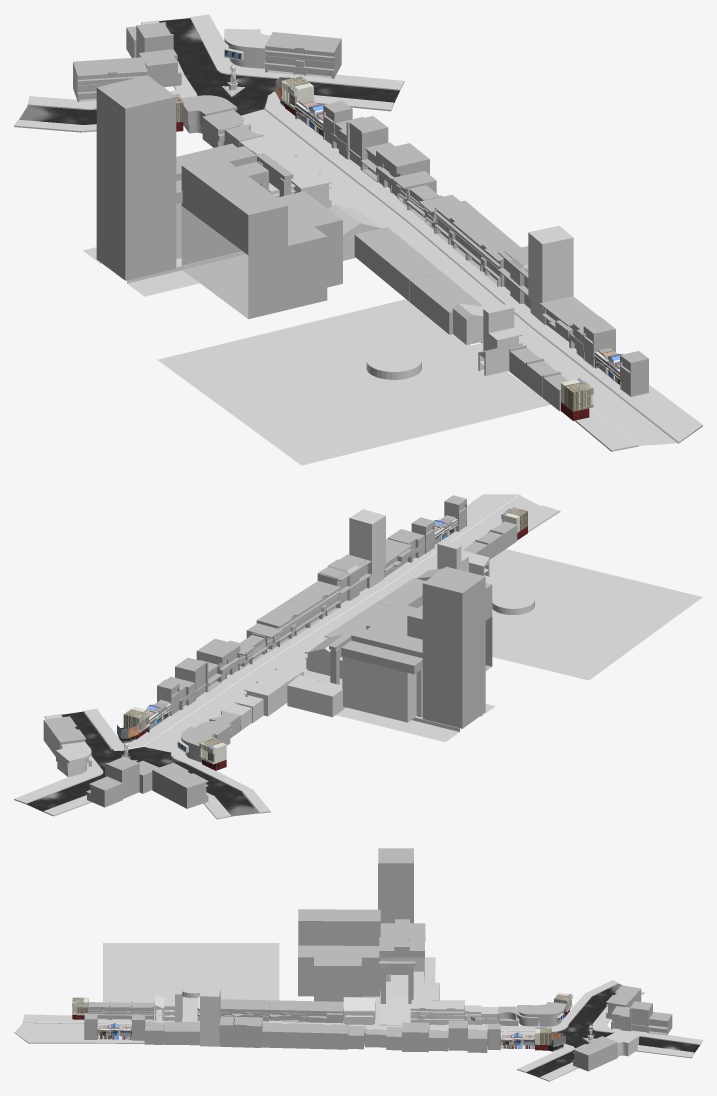
The model's file is BragaU2.fbx.
3 renders of one model, top to bottom at view 1: azimuth 30°, elevation 25°; view 2: azimuth 150°, elevation 25°; view 3: azimuth 270°, elevation 25°, orthographic. The views are drawn at different scales.
Visible parts, largest first — view 1: Plane.048, Plane.018, road, Cube.001, sidewalk, Circle.005, Cube.002, Plane.043, Plane.051, Plane.041, Plane.036, Plane.017 (+27 smaller); view 2: Plane.048, Cube.001, road, sidewalk, Plane.016, Plane.017, Circle.005, Cube.002, Plane.018, Plane.015, Plane.051, Plane.019 (+24 smaller); view 3: Plane.048, Plane.018, sidewalk, road, Cube.001, Plane.015, Plane.017, Plane.044, Cube.002, Circle.005, Plane.043, Plane.041 (+32 smaller).
Boxes of the visible parts, x1=… form: Plane.048: x1=157, y1=299, x2=550, y2=465; Plane.018: x1=181, y1=156, x2=342, y2=319; road: x1=19, y1=18, x2=677, y2=445; Cube.001: x1=96, y1=75, x2=176, y2=280; sidewalk: x1=14, y1=14, x2=702, y2=451; Circle.005: x1=336, y1=344, x2=451, y2=392; Cube.002: x1=528, y1=225, x2=573, y2=324; Plane.043: x1=265, y1=32, x2=341, y2=78; Plane.051: x1=73, y1=57, x2=147, y2=102; Plane.041: x1=434, y1=200, x2=496, y2=259; Plane.036: x1=466, y1=227, x2=520, y2=286; Plane.017: x1=176, y1=143, x2=268, y2=203; Plane.048: x1=485, y1=549, x2=702, y2=680; Cube.001: x1=422, y1=566, x2=485, y2=728; road: x1=26, y1=496, x2=539, y2=816; sidewalk: x1=14, y1=494, x2=560, y2=819; Plane.016: x1=342, y1=656, x2=422, y2=722; Plane.017: x1=341, y1=626, x2=422, y2=674; Circle.005: x1=492, y1=586, x2=558, y2=624; Cube.002: x1=349, y1=509, x2=385, y2=587; Plane.018: x1=366, y1=583, x2=492, y2=670; Plane.015: x1=304, y1=671, x2=495, y2=742; Plane.051: x1=152, y1=762, x2=208, y2=808; Plane.019: x1=287, y1=675, x2=345, y2=717; Plane.048: x1=103, y1=943, x2=279, y2=1011; Plane.018: x1=298, y1=909, x2=380, y2=1001; sidewalk: x1=14, y1=980, x2=702, y2=1081; road: x1=15, y1=983, x2=699, y2=1077; Cube.001: x1=378, y1=848, x2=413, y2=923; Plane.015: x1=362, y1=957, x2=435, y2=1025; Plane.017: x1=379, y1=919, x2=425, y2=957; Plane.044: x1=219, y1=1016, x2=262, y2=1047; Cube.002: x1=200, y1=987, x2=220, y2=1046; Circle.005: x1=158, y1=976, x2=228, y2=1005; Plane.043: x1=573, y1=1036, x2=617, y2=1071; Plane.041: x1=305, y1=1023, x2=349, y2=1049.
Size of the model in its own units: 1507 by 551 by 3146.
